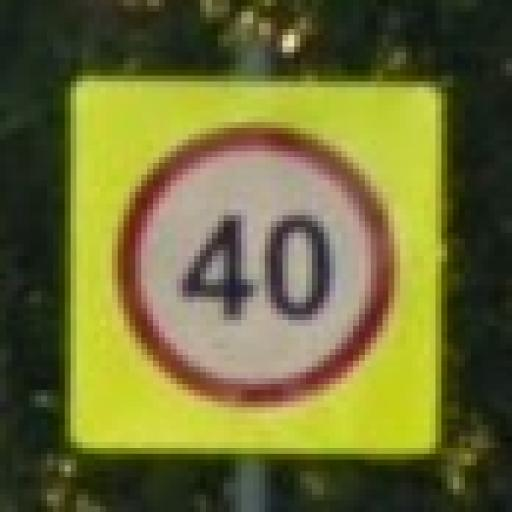traffic_sign: (113, 123, 401, 414)
